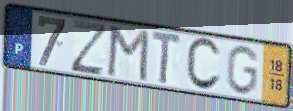7: (36, 14, 68, 68)
C: (184, 37, 223, 94)
G: (224, 43, 261, 97)
M: (105, 25, 151, 85)
T: (150, 28, 183, 87)
Z: (69, 18, 110, 78)
